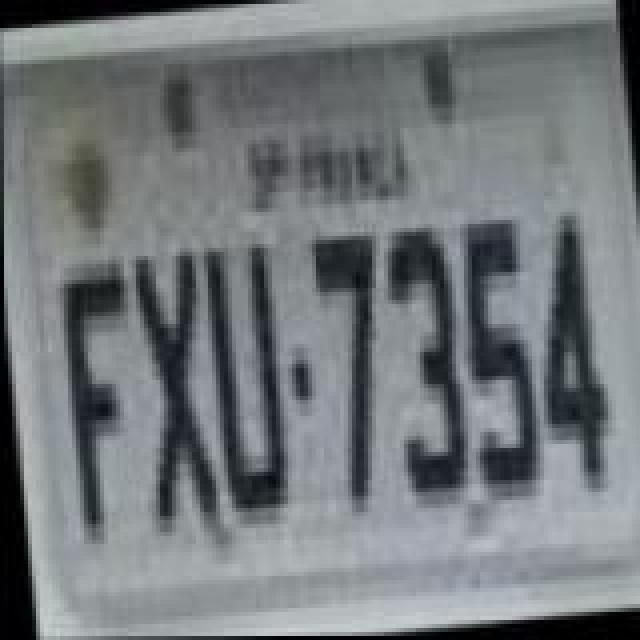3: (372, 216, 472, 512)
4: (516, 202, 616, 498)
5: (448, 208, 548, 504)
7: (302, 214, 398, 514)
F: (50, 258, 146, 538)
U: (198, 230, 294, 522)
X: (120, 236, 220, 540)
